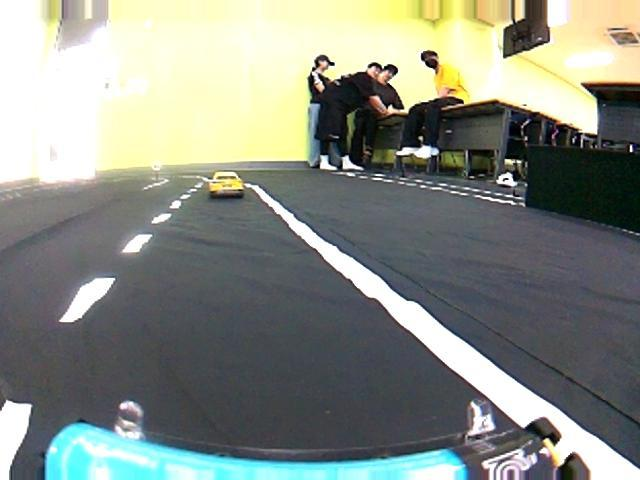car: (205, 164, 248, 202)
straight: (0, 223, 640, 479)
